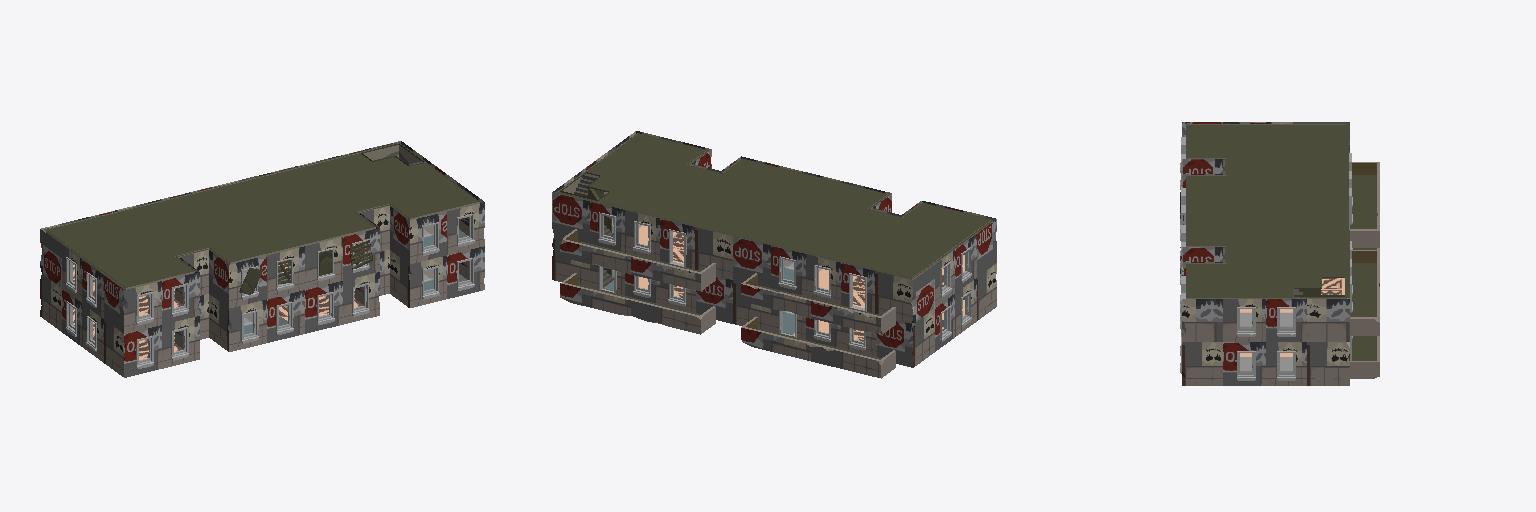
3 views of the same model, side by side, from view 1: azimuth 30°, elevation 25°; view 2: azimuth 150°, elevation 25°; view 3: azimuth 270°, elevation 25° (orthographic).
Parts seen in each view (by area): view 1: SM_Bld_HighRise_Large_01_Interior_Stack_01_Mesh.008; view 2: SM_Bld_HighRise_Large_01_Interior_Stack_01_Mesh.008; view 3: SM_Bld_HighRise_Large_01_Interior_Stack_01_Mesh.008.
Boxes of the visible parts, box(x1,y1,x2,y2) form: SM_Bld_HighRise_Large_01_Interior_Stack_01_Mesh.008: box(40, 141, 484, 377); SM_Bld_HighRise_Large_01_Interior_Stack_01_Mesh.008: box(552, 131, 996, 378); SM_Bld_HighRise_Large_01_Interior_Stack_01_Mesh.008: box(1180, 122, 1379, 385).
Bounding box in the file's own units: 26.1 × 6.31 × 12.39.
3 materials, 1 textured.